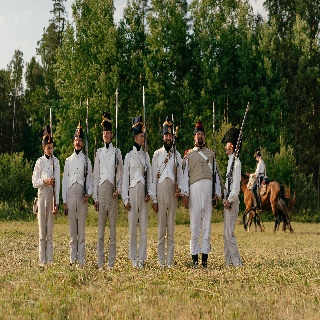rifle: (226, 100, 250, 204), (47, 106, 59, 215), (140, 84, 151, 201), (112, 86, 120, 198), (169, 113, 179, 197), (83, 95, 90, 203), (211, 100, 218, 206)
